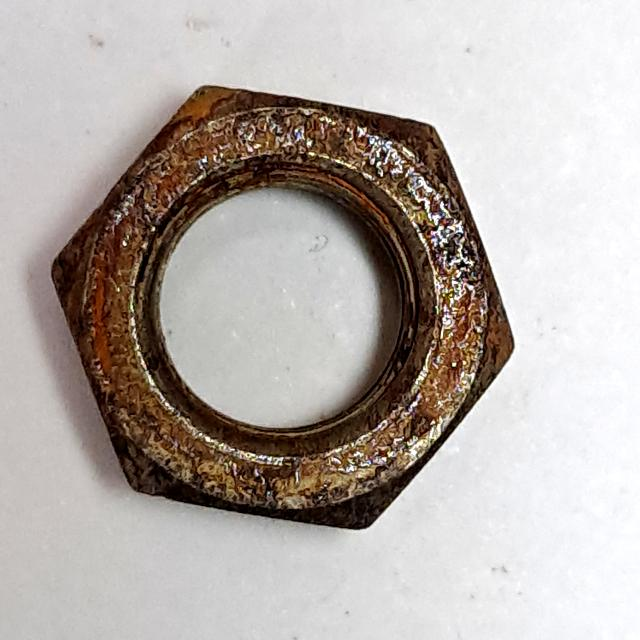Rust: (42, 64, 536, 544)
